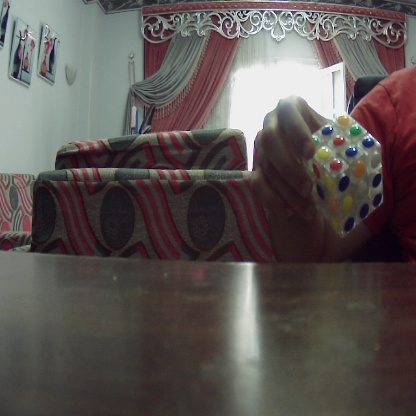Rubix Cube: (307, 123, 382, 229)
